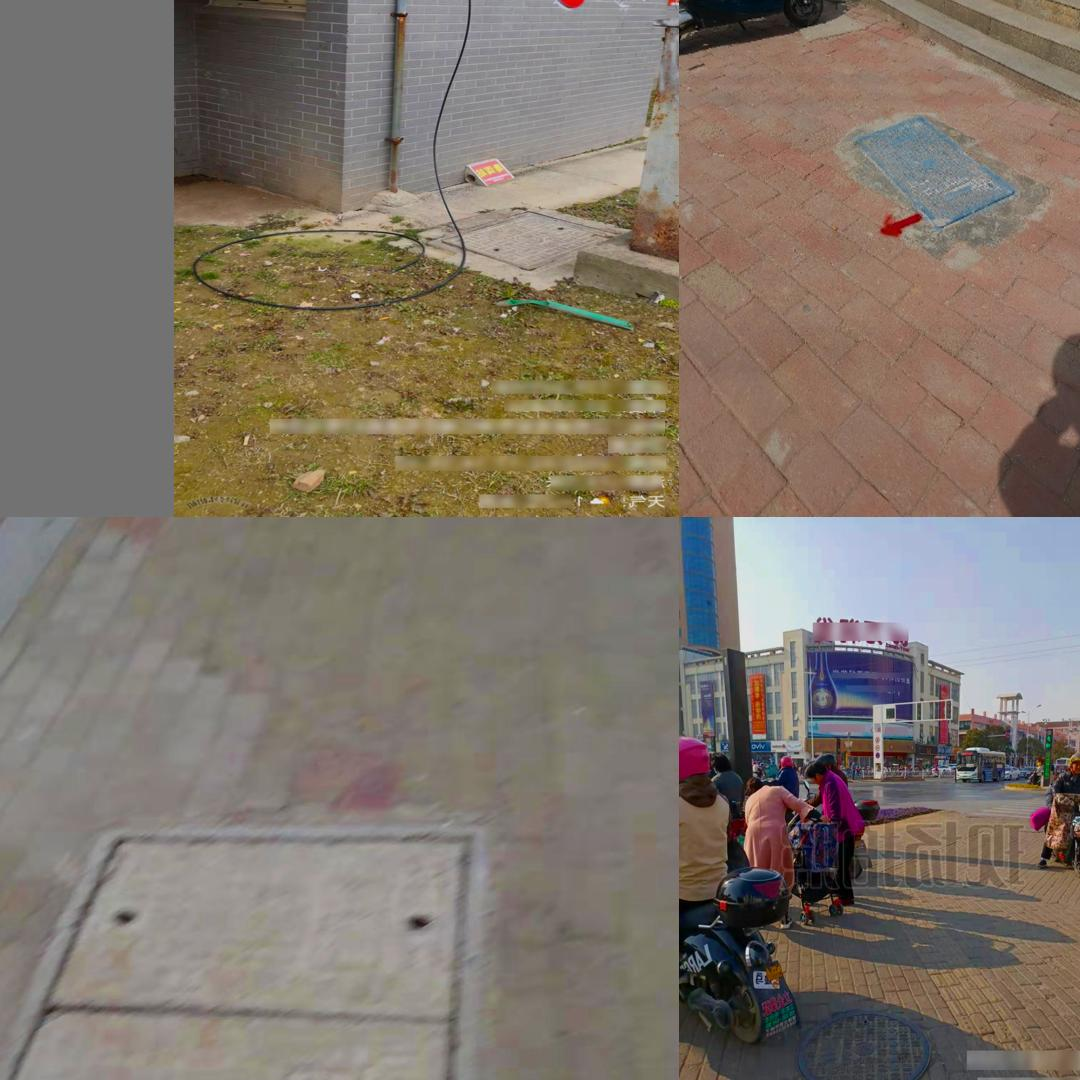good: (0, 821, 487, 1080), (855, 115, 1019, 229), (438, 193, 623, 270), (796, 1008, 931, 1080)
